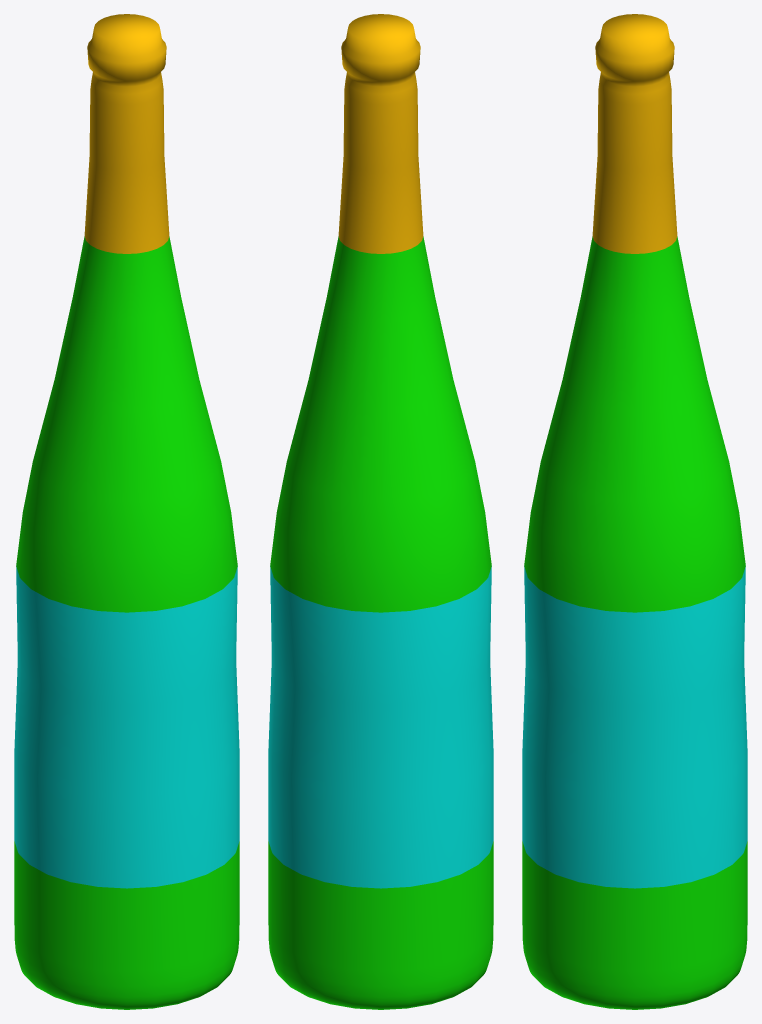
Rendered from SM_WineBottle.FBX.
3 renders of one model, left to right at view 1: azimuth 30°, elevation 25°; view 2: azimuth 150°, elevation 25°; view 3: azimuth 270°, elevation 25°, orthographic.
Visible parts, largest first — view 1: Winebottle01; view 2: Winebottle01; view 3: Winebottle01.
Part boxes in pixels (bbox=[...]): Winebottle01: bbox=[14, 14, 239, 1009]; Winebottle01: bbox=[268, 14, 493, 1009]; Winebottle01: bbox=[522, 14, 747, 1009].
Size of the model in its own units: 22.99 by 107 by 22.99.
